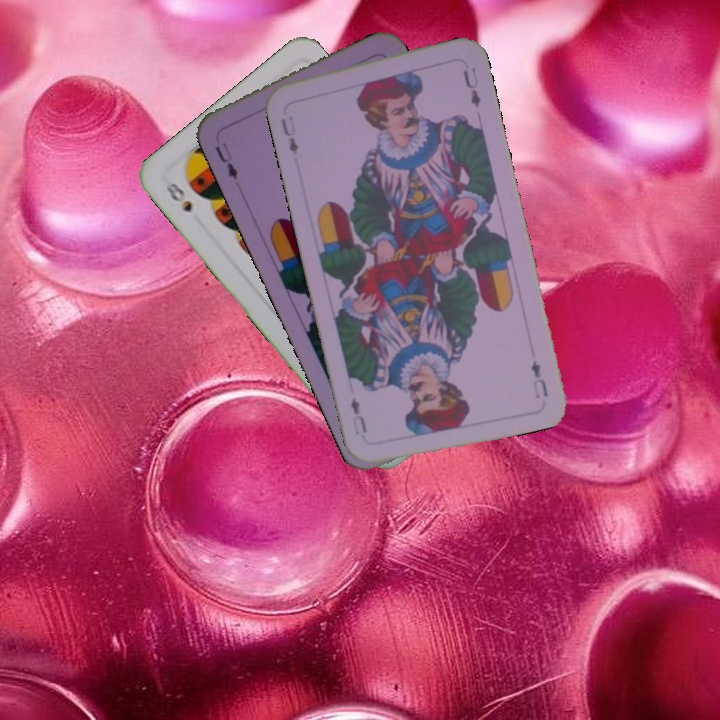EU: (211, 138, 241, 182), (277, 112, 301, 158), (527, 356, 551, 402)
S8: (161, 178, 195, 215)
